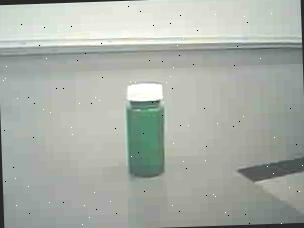Bottle C: (115, 76, 178, 188)
